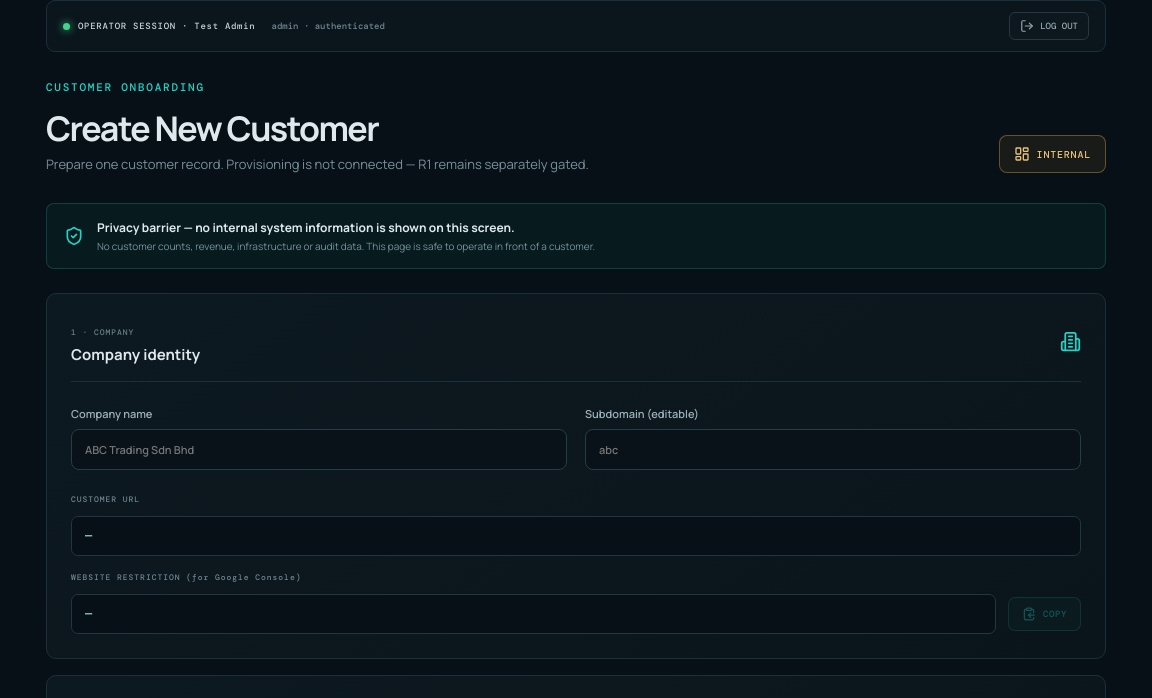
Test: PRE-R1 operator UX — landing, internal gate and production data isolation › 14. production mode never shows sample customers
Expected: the heading "Create New Customer" is shown, [46,105,378,151]
Click the button with aria-label "INTERNAL ADMIN".
click(1052, 154)  # box [999,135,1106,173]
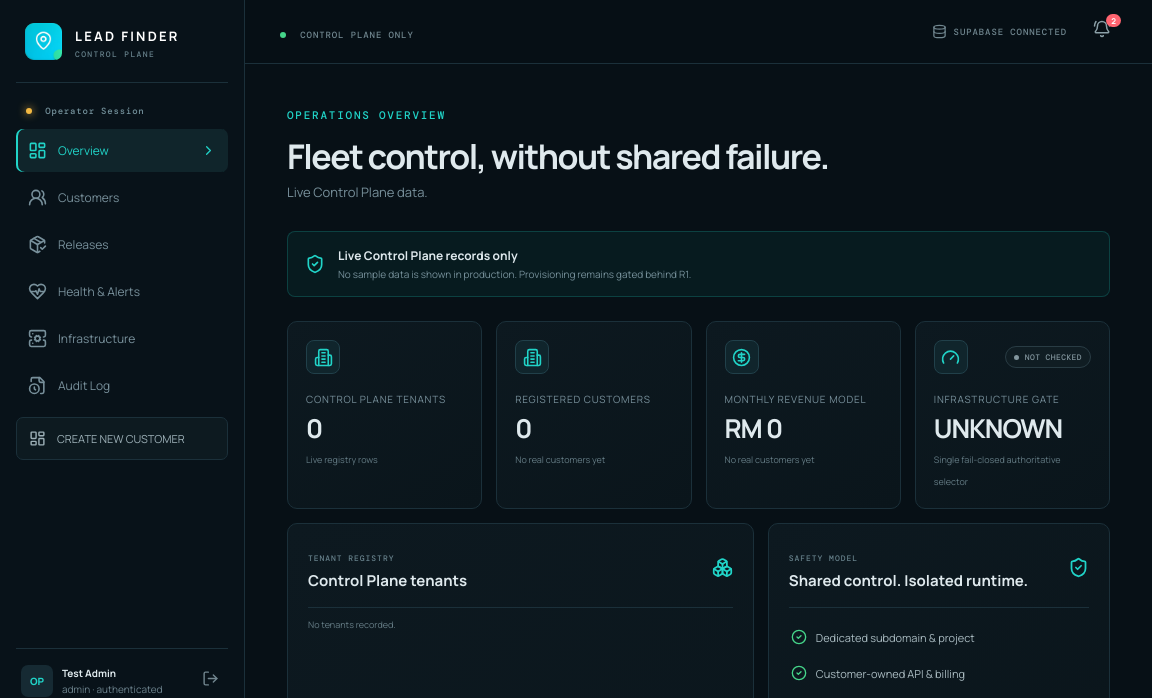
Click the button "Customers".
click(122, 198)  # box [16,176,228,219]
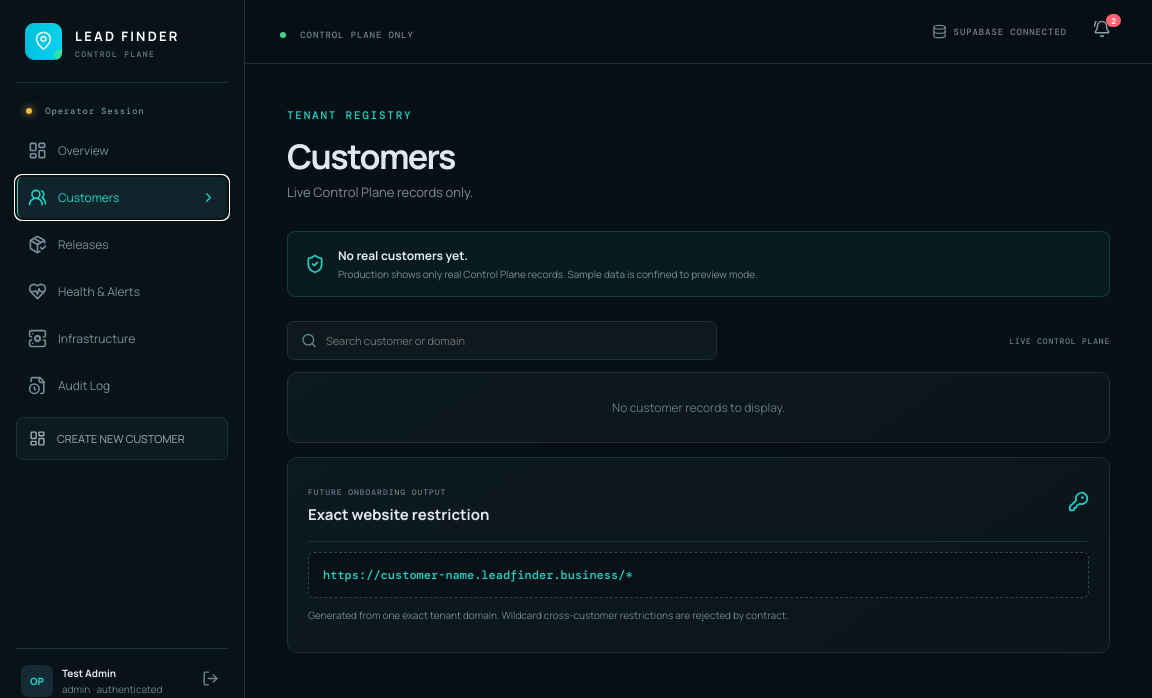
Expected: the text "No real customers yet." is shown, [338,247,468,264]
